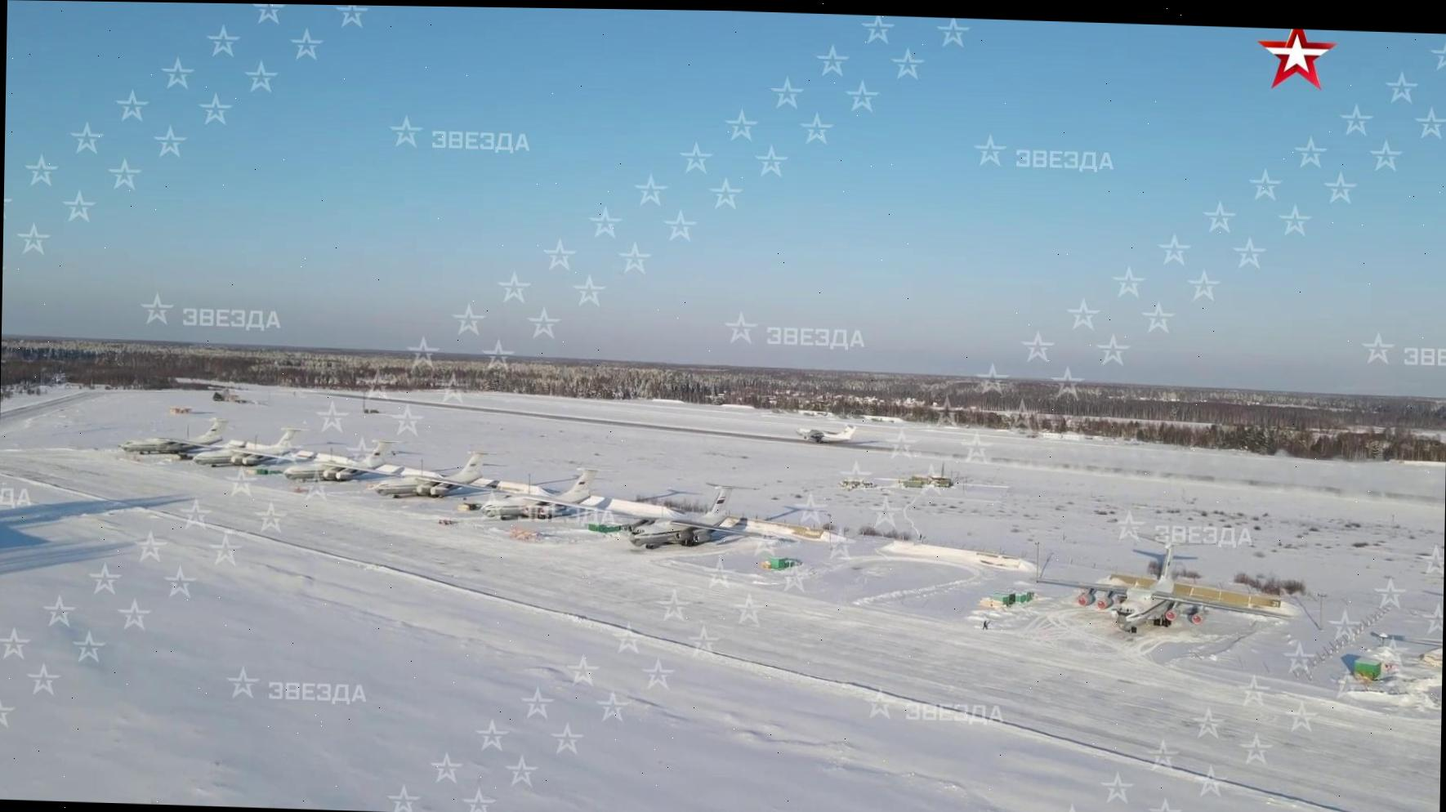plane: (1034, 532, 1296, 640), (605, 477, 778, 554), (473, 461, 619, 523), (370, 446, 499, 502), (283, 436, 409, 486), (192, 424, 309, 472), (116, 415, 232, 458), (797, 420, 859, 445)
